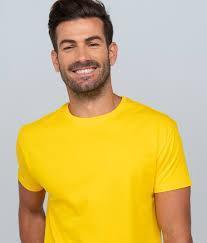Tshirt: (15, 90, 195, 243)
